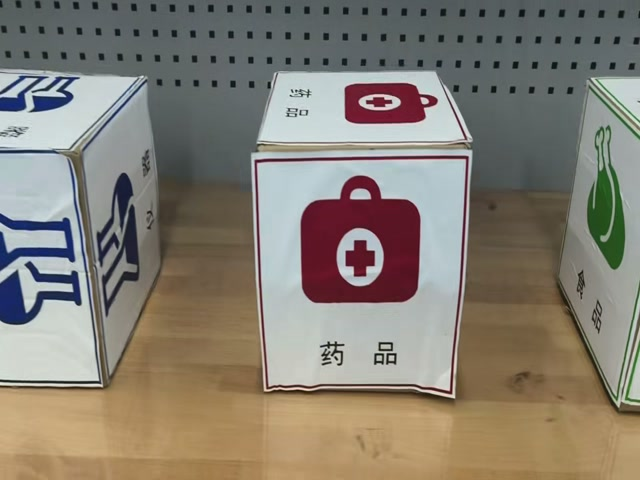Cube_food: (588, 77, 640, 135)
Cube_ins: (0, 70, 144, 156)
Cube_medicine: (258, 73, 479, 160)
